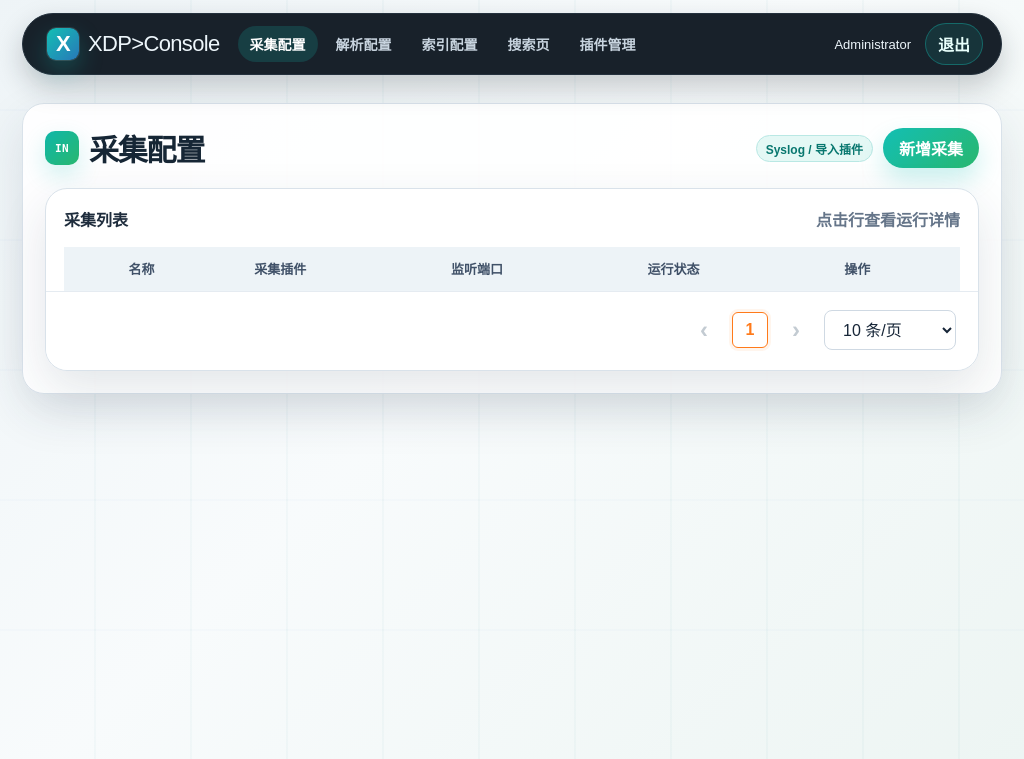
Test: XDP index config API integration › paginates the index list through API page params
Click the button with test id "nav-index". click: (450, 44)
box: [410, 26, 490, 62]
(page scrolled)
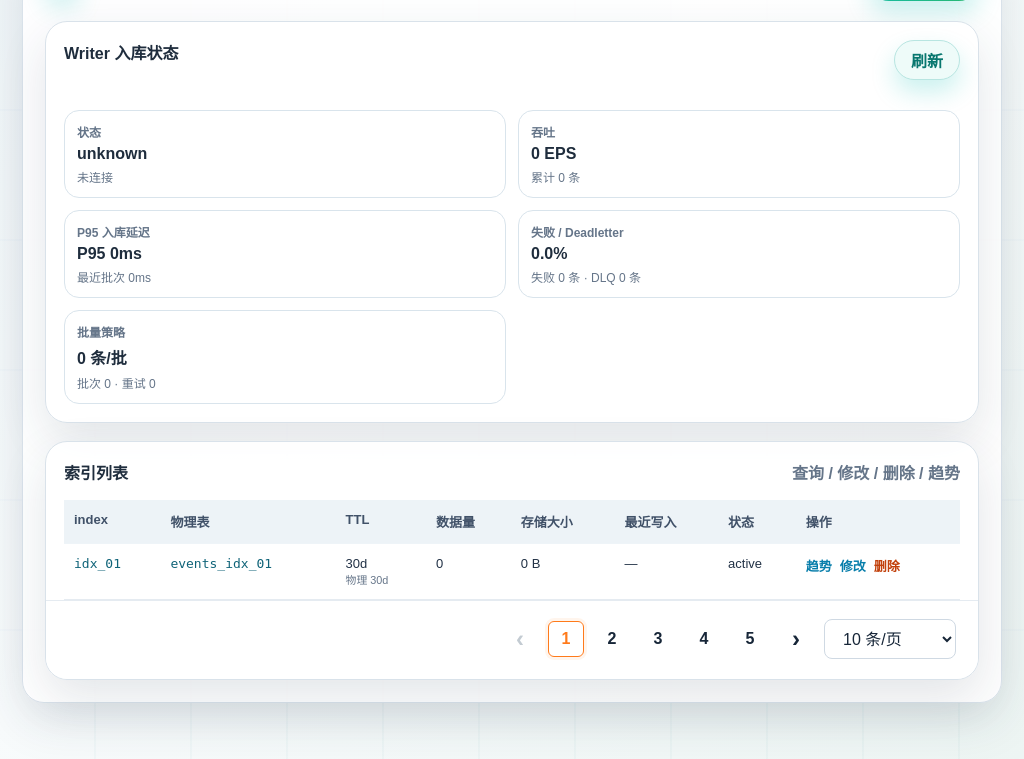
Check: the element with test id "index-pagination" shows "3", box [640, 621, 676, 657]
Click the button with test id "index-next". click: (796, 639)
box: [778, 621, 814, 657]
(page scrolled)
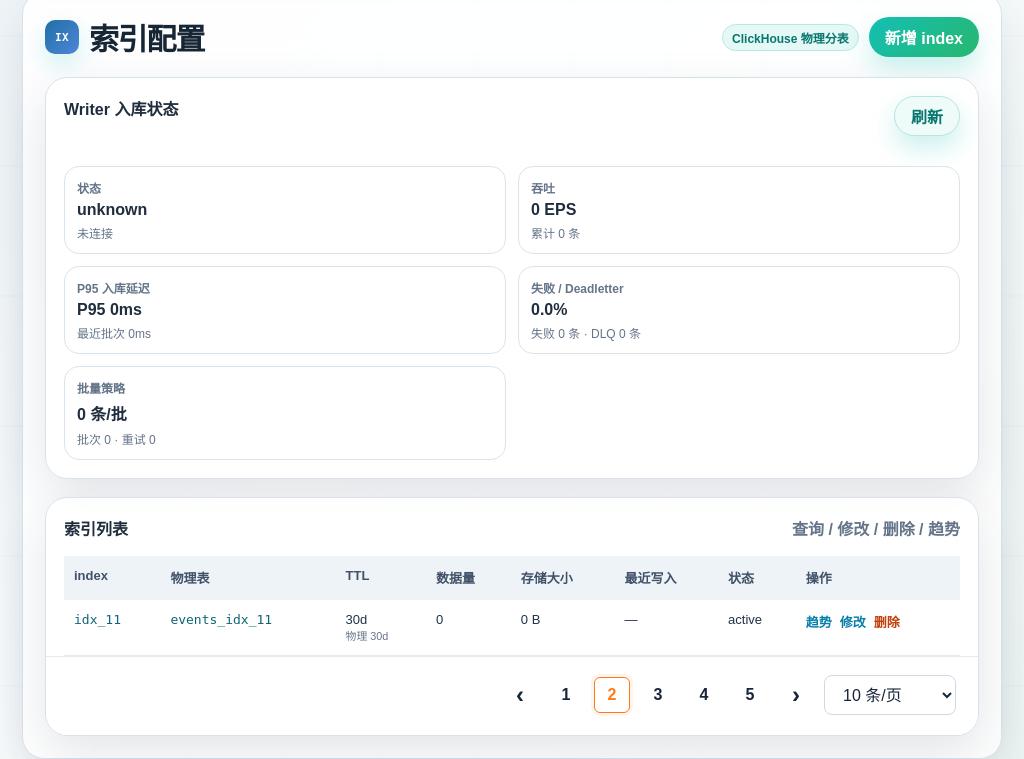
Check: the element with test id "index-page" shows "idx_11", box [74, 612, 121, 627]
